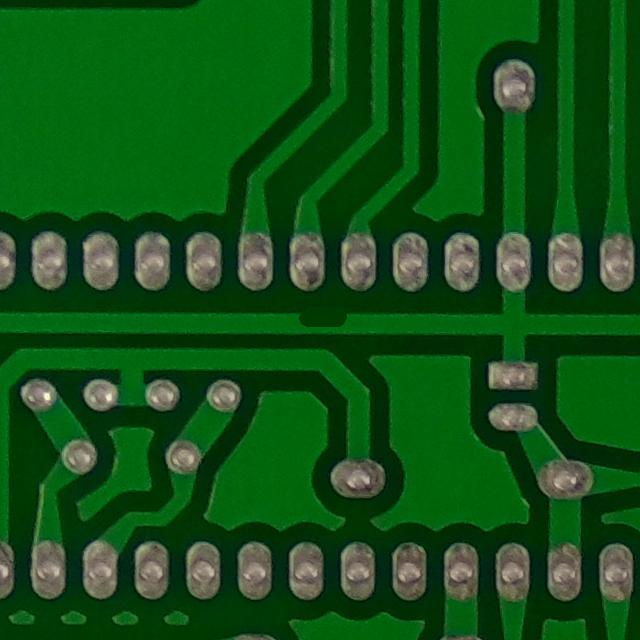mouse_bite: (282, 296, 358, 345)
